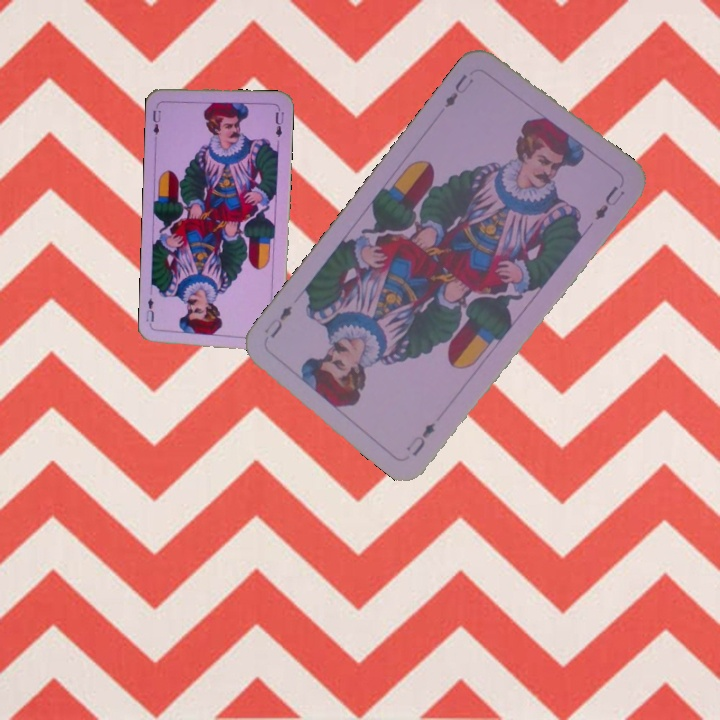EU: (440, 70, 476, 111), (402, 418, 438, 459), (149, 106, 163, 142)
